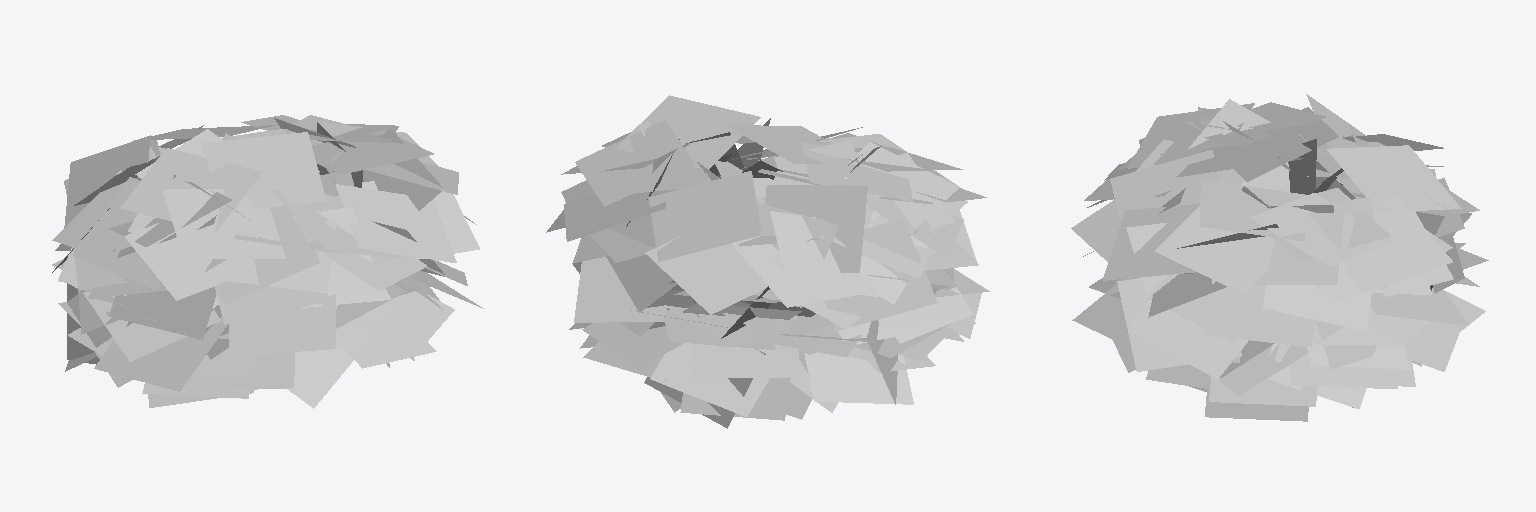
Rendered from low_poly_shrub.obj.
The picture shows the model from 3 angles: view 1: azimuth 30°, elevation 25°; view 2: azimuth 150°, elevation 25°; view 3: azimuth 270°, elevation 25°; orthographic projection.
Visible parts, largest first — view 1: leaves; view 2: leaves; view 3: leaves.
Boxes of the visible parts, <box> form: leaves: <box>52,115,483,408</box>; leaves: <box>546,95,989,428</box>; leaves: <box>1071,94,1488,421</box>.
Bounding box in the file's own units: 4.17 × 2.37 × 3.88.